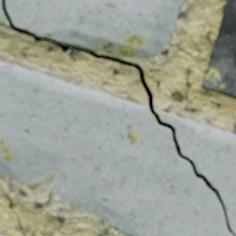brick: (202, 0, 235, 97)
broken_brick: (0, 61, 232, 235), (6, 0, 184, 58), (154, 109, 235, 235), (0, 0, 9, 26)
crack: (2, 0, 234, 235), (135, 105, 139, 109)
